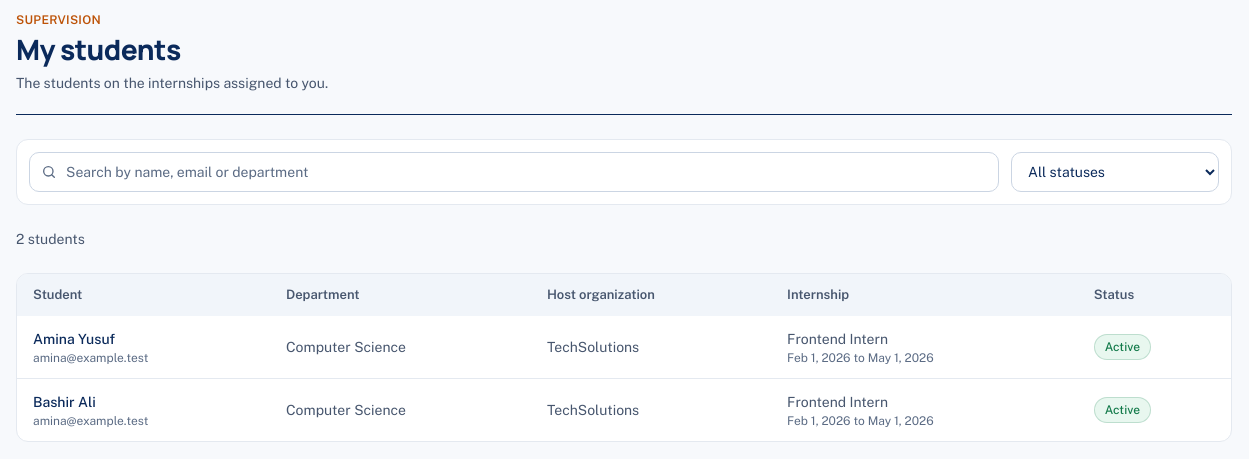
Test: supervised students page › narrows the rows that arrived rather than pretending to search the server
The width and height of the screenshot is (1249, 459).
Expected: the link "Amina Yusuf" is shown, left=33, top=331, right=115, bottom=347
Type "bashir" into the search field named "Search students" at (514, 172), box left=29, top=152, right=999, bottom=192
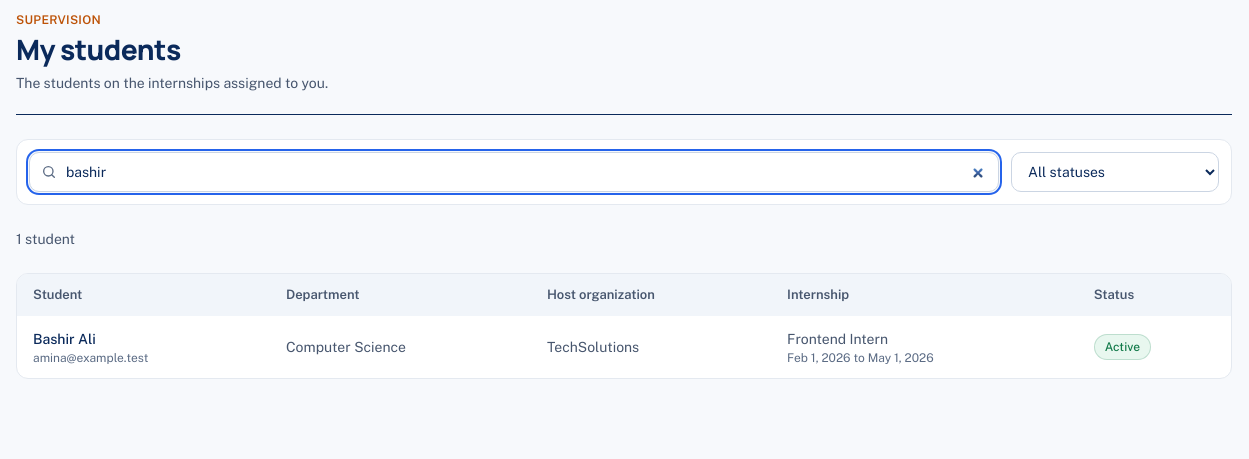
Expected: the link "Bashir Ali" is shown, left=33, top=331, right=96, bottom=347
Result: the link "Amina Yusuf" is gone
